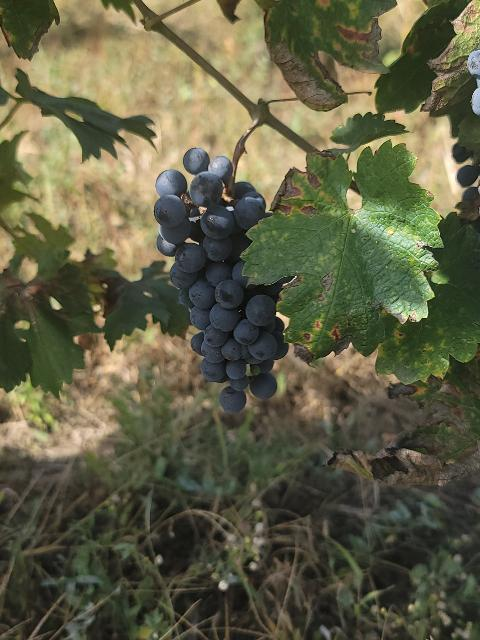grapes: (154, 148, 294, 412)
